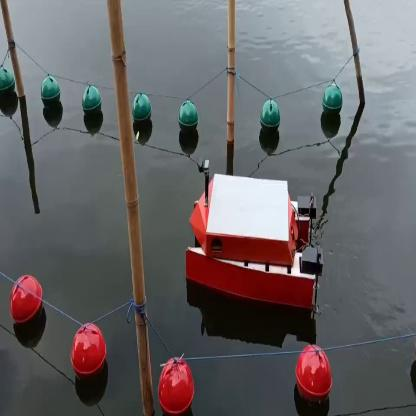green_buoy: (37, 71, 62, 114), (259, 94, 278, 139), (83, 84, 104, 124), (178, 98, 198, 137), (132, 95, 154, 130), (0, 68, 18, 108), (324, 81, 342, 119)
red_buoy: (10, 272, 46, 330), (297, 348, 332, 407), (72, 323, 108, 380), (158, 358, 193, 414)
